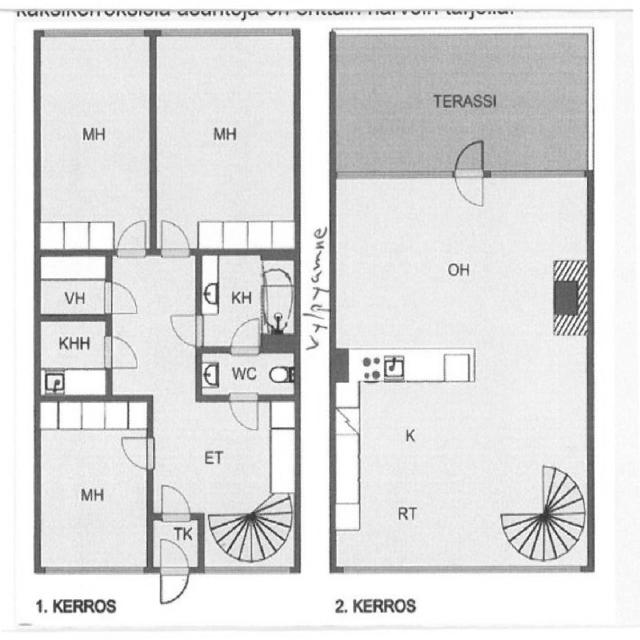door: (329, 350, 592, 568), (334, 175, 590, 348), (152, 28, 299, 256), (44, 31, 154, 252), (34, 397, 153, 571), (194, 257, 295, 350), (36, 308, 110, 395), (193, 348, 296, 400), (41, 257, 114, 312)
window: (342, 557, 588, 576), (485, 156, 591, 183), (337, 162, 458, 183), (40, 24, 147, 46), (196, 563, 298, 580), (158, 25, 298, 37), (40, 562, 147, 576)
zone: (154, 534, 195, 607), (450, 137, 486, 206), (117, 430, 159, 474), (169, 309, 213, 349), (155, 212, 189, 259), (230, 310, 266, 350), (102, 334, 138, 370), (231, 393, 261, 434), (111, 223, 148, 254), (102, 282, 139, 312), (160, 482, 187, 520)
